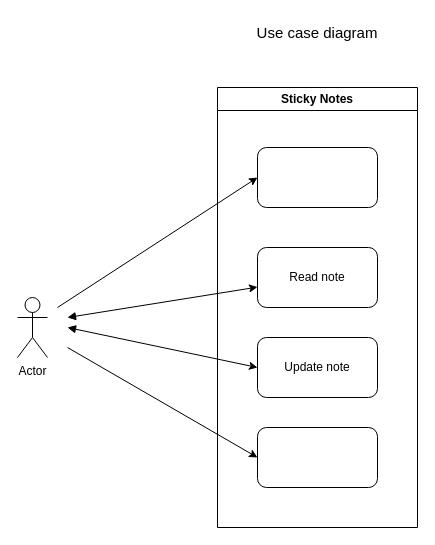
The diagram is 435 pixels wide and 545 high, and some of its shapes have lost their labels. The shapes that lost their labels are listed below. From the top down, each one's box as (x1, y1, x2, y2) in pixels, then its label:
(256, 146, 378, 208): Create note
(256, 426, 378, 488): Delete note
